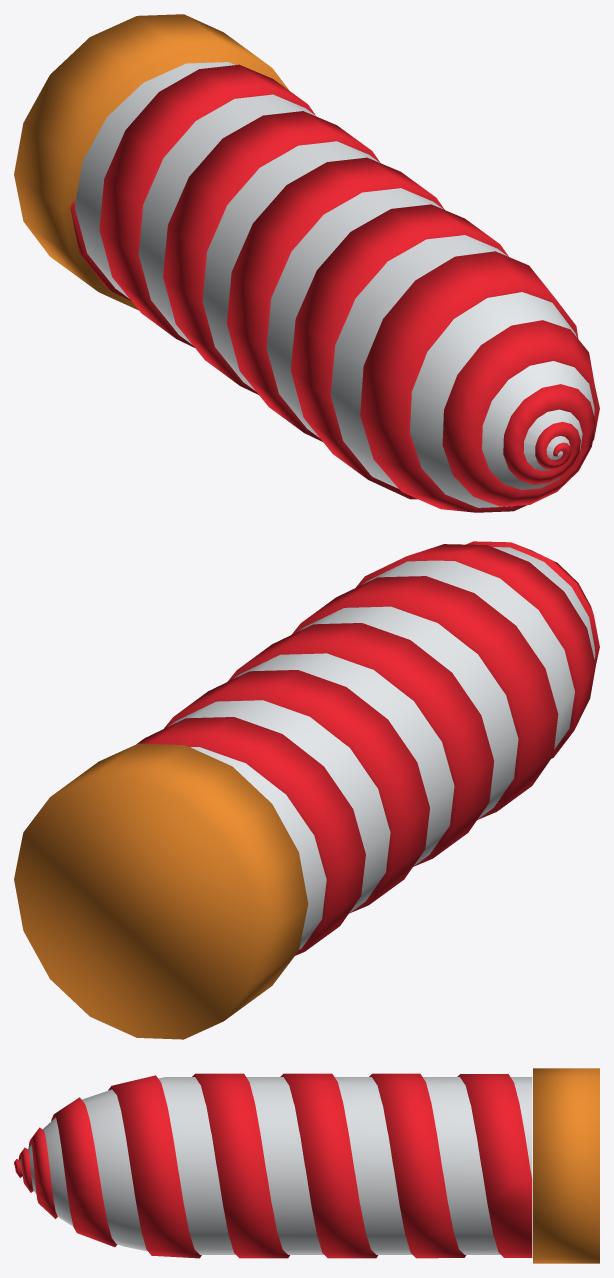
File: ricochet_shell_v1.fbx
3 views of the same model, one above another, from view 1: azimuth 30°, elevation 25°; view 2: azimuth 150°, elevation 25°; view 3: azimuth 270°, elevation 25° (orthographic). The views are drawn at different scales.
Visible parts, largest first — view 1: Plane, Cylinder, Cylinder.001; view 2: Cylinder.001, Plane, Cylinder; view 3: Plane, Cylinder, Cylinder.001.
Boxes of the visible parts, x1=… form: Plane: x1=70, y1=64, x2=599, y2=512; Cylinder: x1=75, y1=62, x2=594, y2=507; Cylinder.001: x1=14, y1=14, x2=289, y2=310; Cylinder.001: x1=14, y1=743, x2=308, y2=1039; Plane: x1=136, y1=541, x2=599, y2=955; Cylinder: x1=168, y1=547, x2=595, y2=949; Plane: x1=14, y1=1073, x2=532, y2=1258; Cylinder: x1=20, y1=1077, x2=532, y2=1254; Cylinder.001: x1=533, y1=1068, x2=599, y2=1263.
Size of the model in its own units: 110 by 110 by 329.
